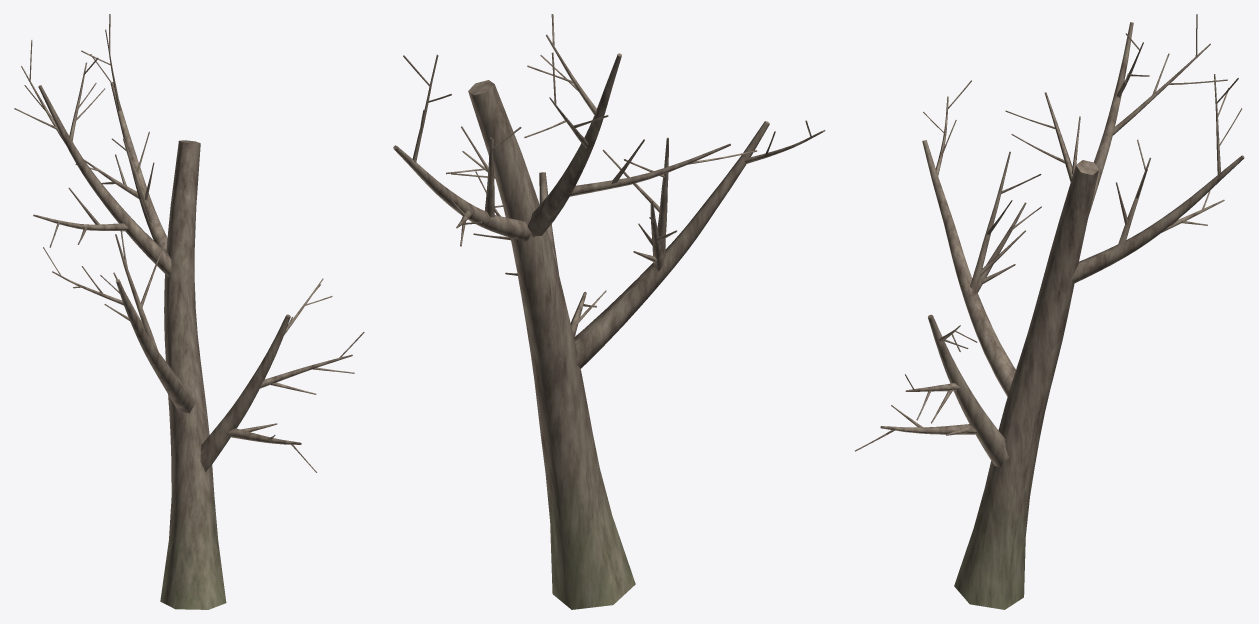
The model's file is oak2_trunk.glb.
The picture shows the model from 3 angles, left to right: view 1: azimuth 30°, elevation 25°; view 2: azimuth 150°, elevation 25°; view 3: azimuth 270°, elevation 25°; orthographic projection. The views are drawn at different scales.
Parts seen in each view (by area): view 1: trunk; view 2: trunk; view 3: trunk.
Boxes of the visible parts, box(x1,y1,x2,y2) form: trunk: box(14, 14, 364, 609); trunk: box(393, 14, 825, 609); trunk: box(855, 14, 1244, 609).
Size of the model in its own units: 3.86 by 6.45 by 4.16.
Materials: 1 (1 with a texture image).
